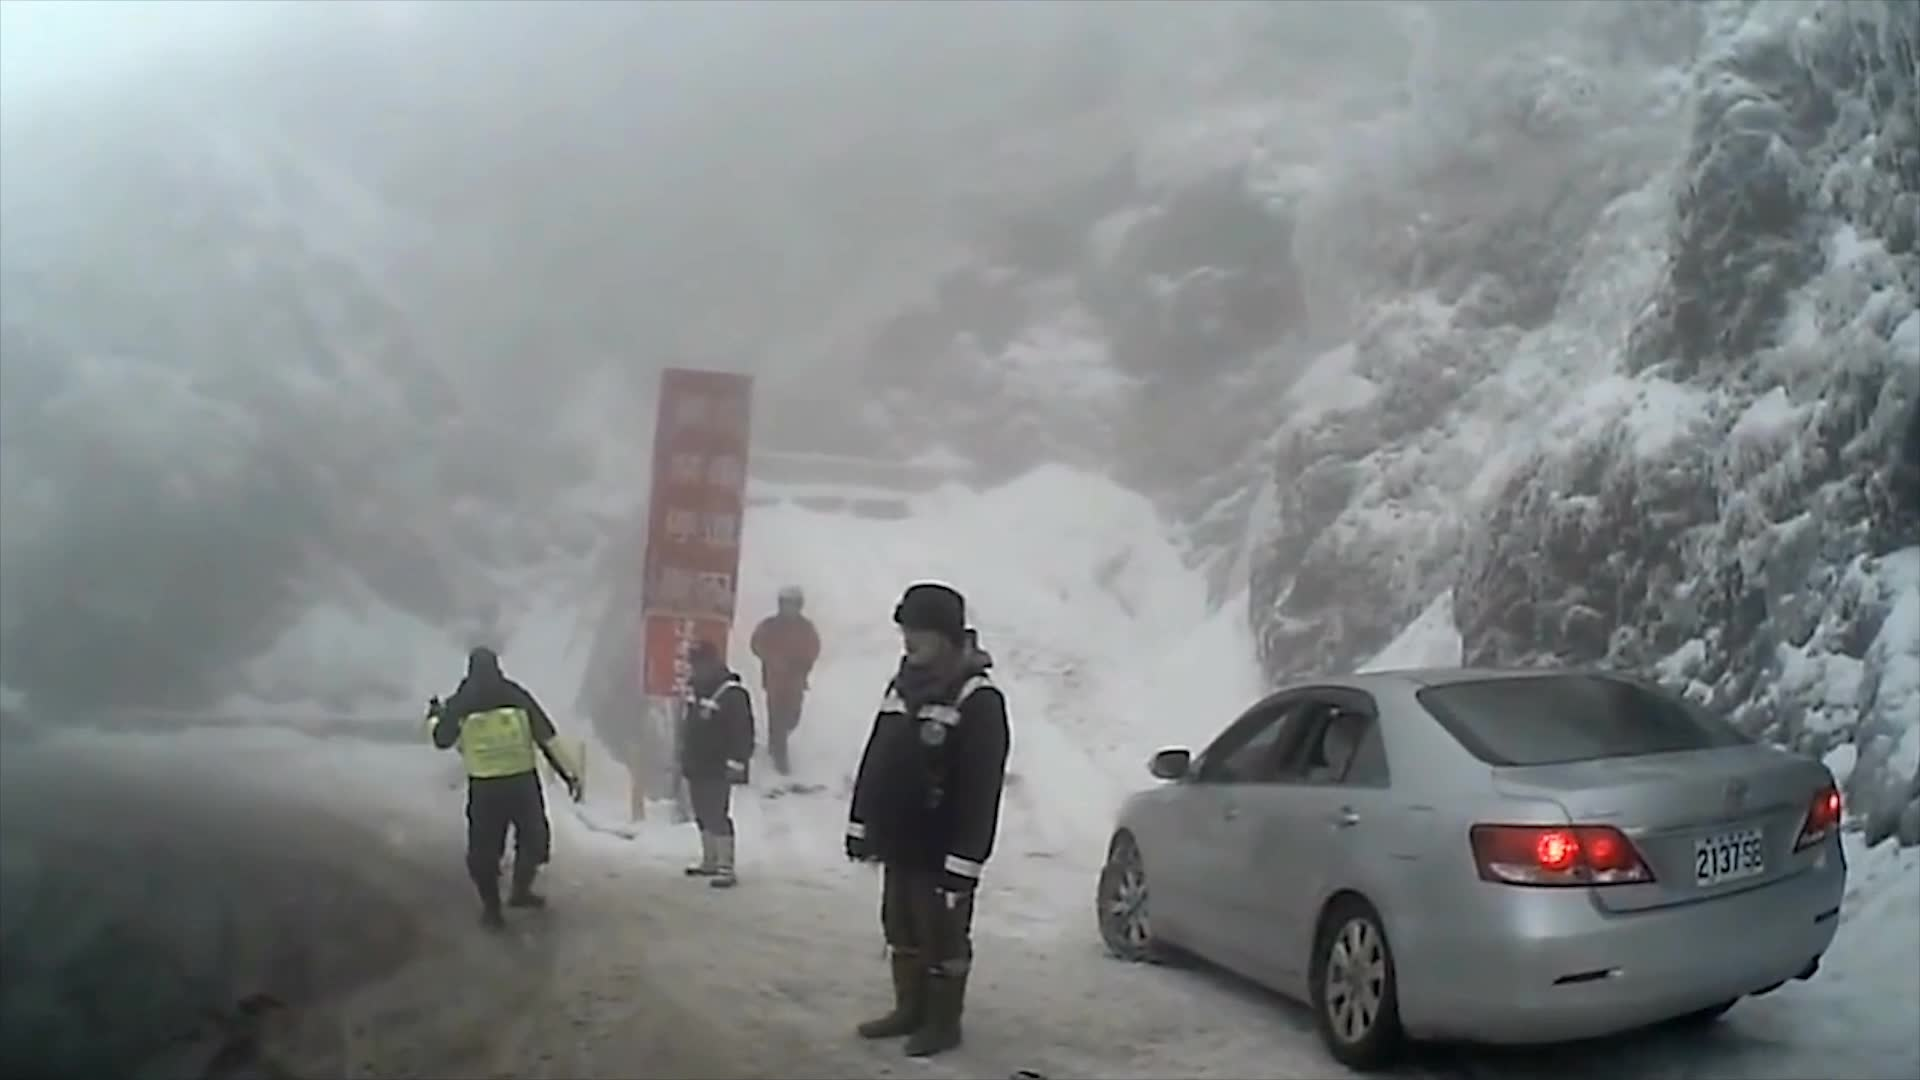pedestrian: (838, 585, 1010, 1064), (417, 651, 587, 935), (681, 639, 756, 888), (749, 583, 822, 771)
vehicle: (1094, 665, 1848, 1062)
